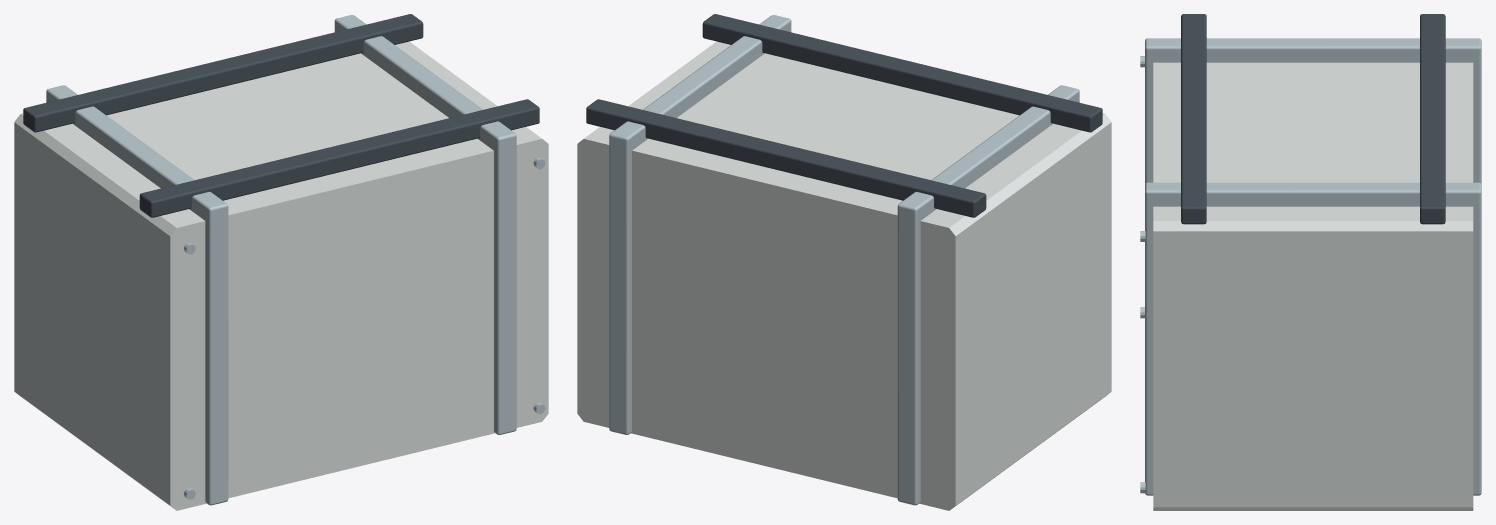
File: data-centre-infiltration-kit-data-centre-infiltration--9540fcbb__29265.glb
3 renders of one model, left to right at view 1: azimuth 30°, elevation 25°; view 2: azimuth 150°, elevation 25°; view 3: azimuth 270°, elevation 25°, orthographic. The views are drawn at different scales.
Parts seen in each view (by area): view 1: data-centre-infiltration-kit-equipment-crate; view 2: data-centre-infiltration-kit-equipment-crate; view 3: data-centre-infiltration-kit-equipment-crate.
Boxes of the visible parts, <box> form: data-centre-infiltration-kit-equipment-crate: <box>14,14,548,510</box>; data-centre-infiltration-kit-equipment-crate: <box>577,14,1111,510</box>; data-centre-infiltration-kit-equipment-crate: <box>1140,14,1481,510</box>.
Bounding box in the file's own units: 1.08 × 0.8 × 0.801.
